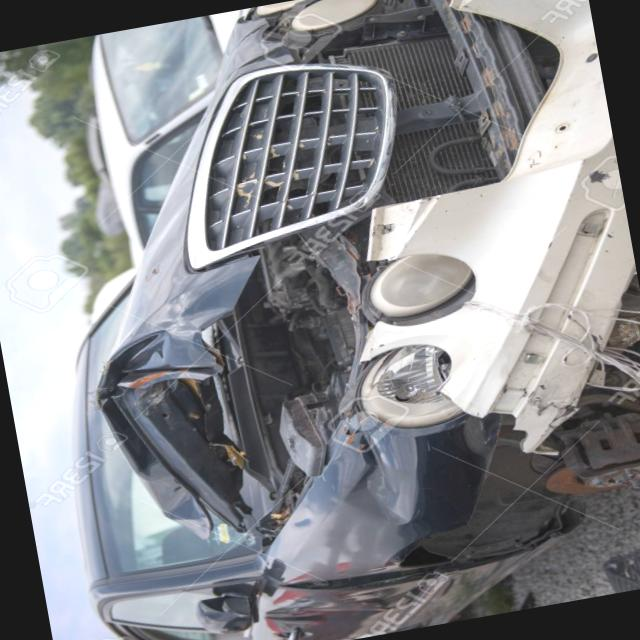Severe Damage: (31, 0, 640, 626)
